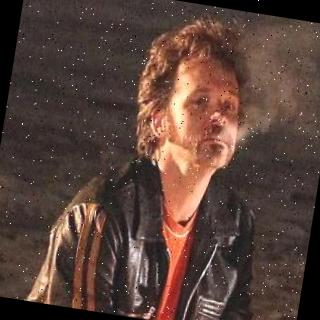smoke: (236, 13, 320, 146)
